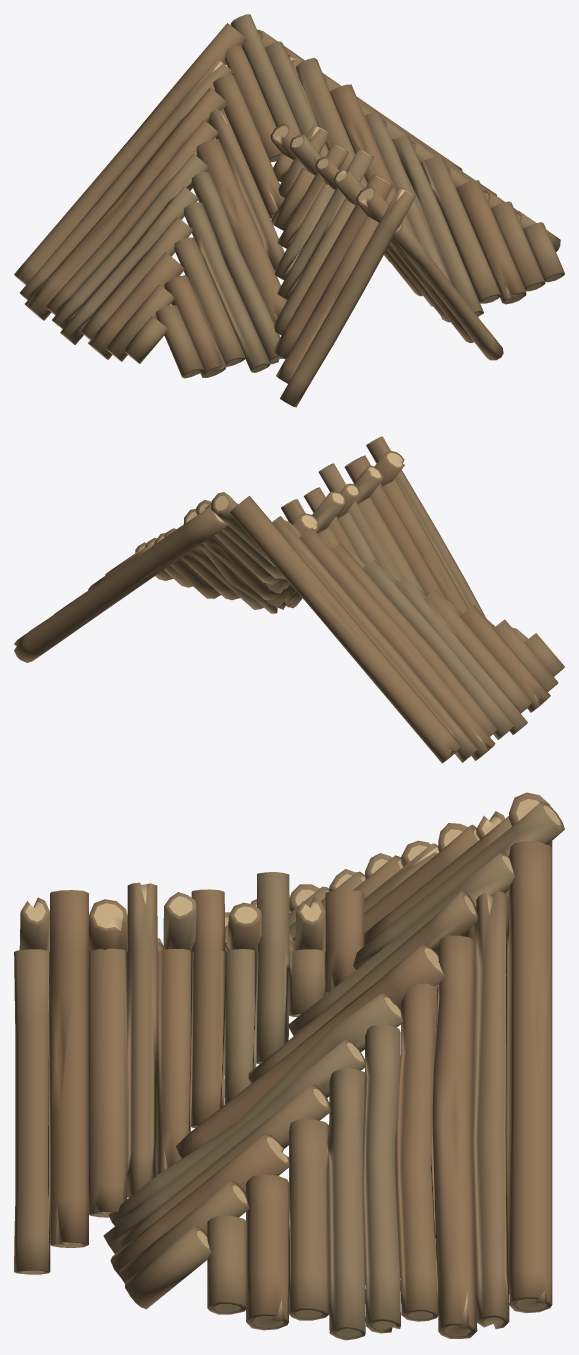
File: rpgpp_ag_roof_01_6x3x3_end_03.fbx
3 renders of one model, top to bottom at view 1: azimuth 30°, elevation 25°; view 2: azimuth 150°, elevation 25°; view 3: azimuth 270°, elevation 25°, orthographic. The views are drawn at different scales.
Visible parts, largest first — view 1: rpgpp_ag_roof_01_6x3x3_end_03; view 2: rpgpp_ag_roof_01_6x3x3_end_03; view 3: rpgpp_ag_roof_01_6x3x3_end_03.
Boxes of the visible parts, box(x1,y1,x2,y2) form: rpgpp_ag_roof_01_6x3x3_end_03: box(14, 14, 564, 407); rpgpp_ag_roof_01_6x3x3_end_03: box(14, 436, 564, 763); rpgpp_ag_roof_01_6x3x3_end_03: box(14, 792, 564, 1340).
Bounding box in the file's own units: 8.51 × 4.38 × 5.4.
